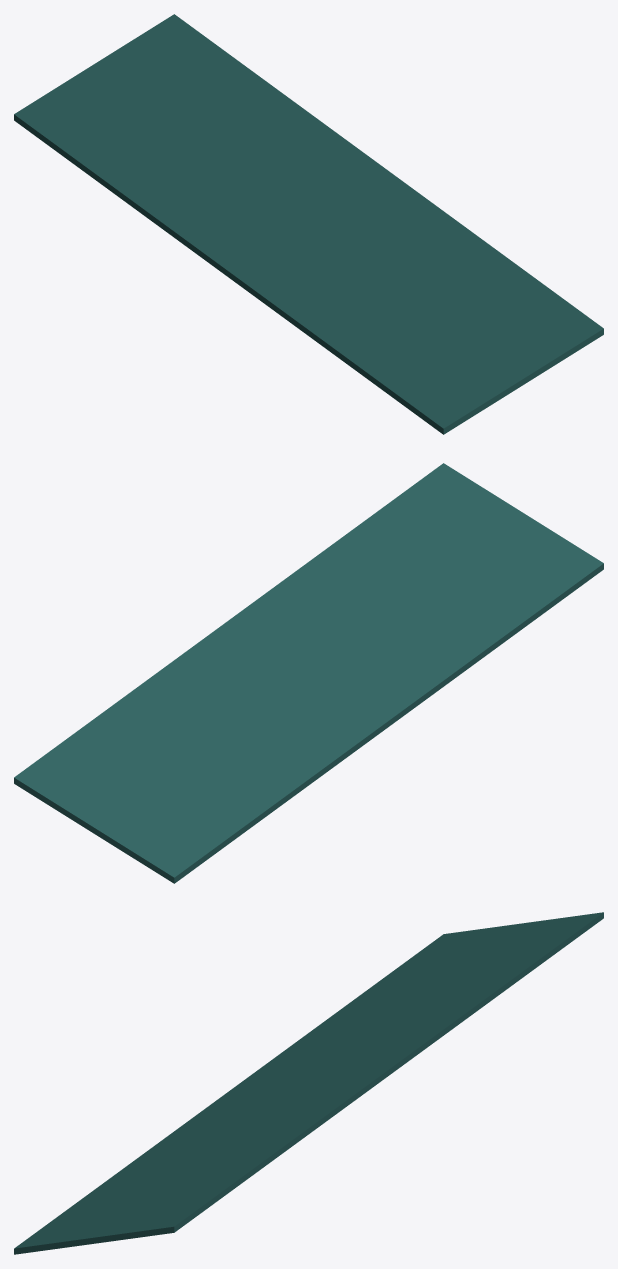
The picture shows the model from 3 angles, top to bottom: view 1: azimuth 30°, elevation 25°; view 2: azimuth 150°, elevation 25°; view 3: azimuth 330°, elevation 25°; orthographic projection.
Visible parts, largest first — view 1: ROOF-B6-0; view 2: ROOF-B6-0; view 3: ROOF-B6-0.
Part boxes in pixels (<box>): ROOF-B6-0: <box>14,14,603,434</box>; ROOF-B6-0: <box>14,463,603,883</box>; ROOF-B6-0: <box>14,912,603,1254</box>.
Size of the model in its own units: 2.18 by 0.8743 by 10.13.
